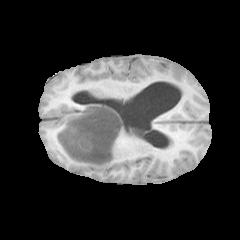glioma: (55, 104, 133, 170)
